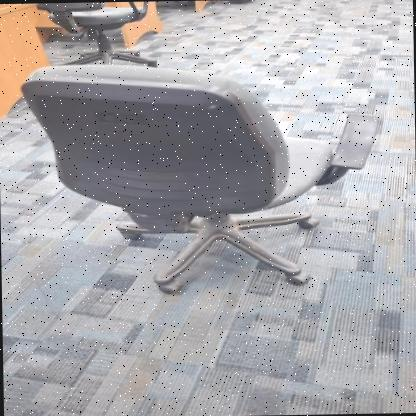chair: (21, 49, 392, 302)
